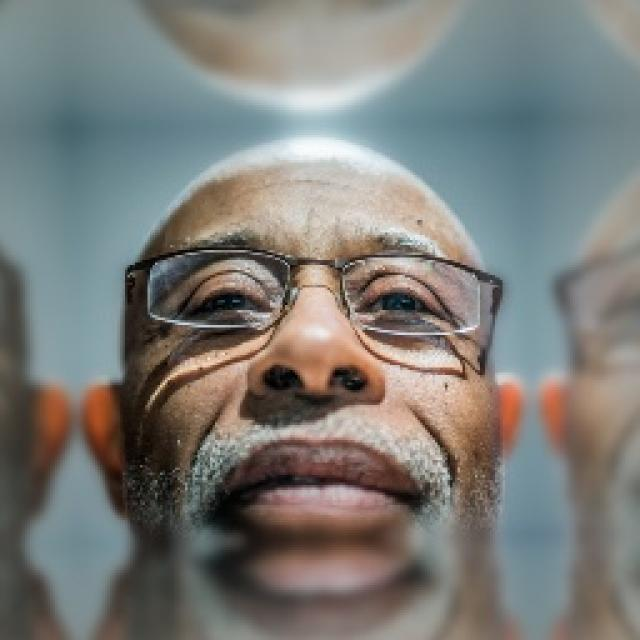glasses: (114, 226, 502, 371)
